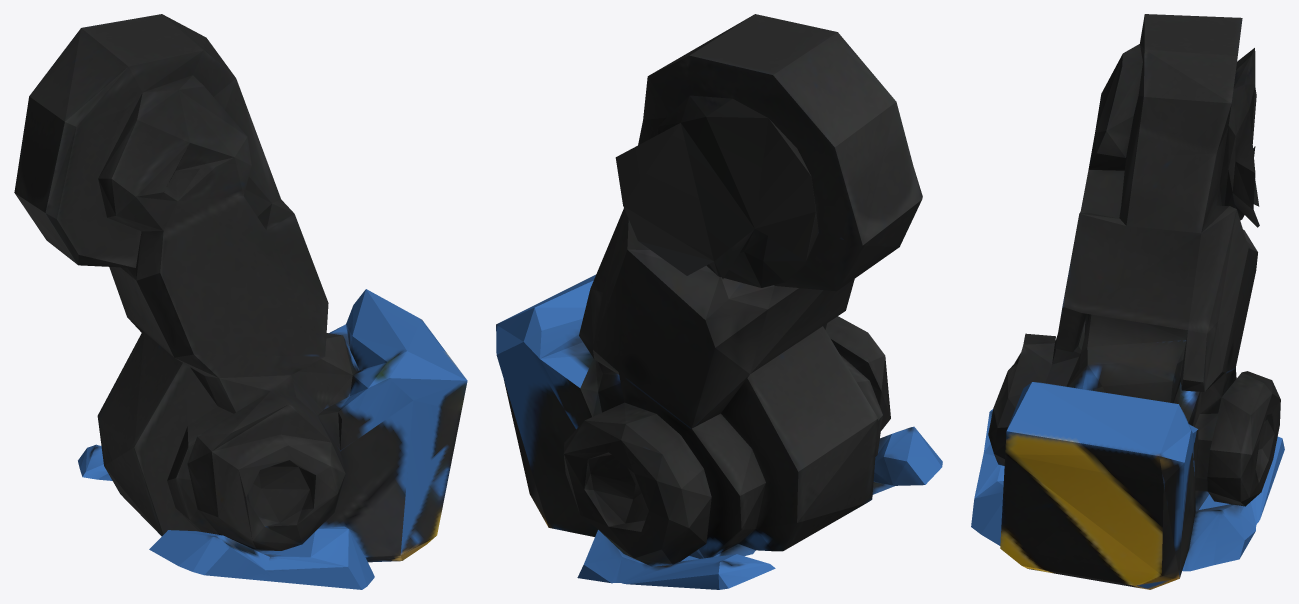
File: SM_HeavyDebris_Thigh_R.fbx
The picture shows the model from 3 angles, left to right: view 1: azimuth 30°, elevation 25°; view 2: azimuth 150°, elevation 25°; view 3: azimuth 270°, elevation 25°; orthographic projection. The views are drawn at different scales.
Parts seen in each view (by area): view 1: SM_HeavyDebris_Thigh_R; view 2: SM_HeavyDebris_Thigh_R; view 3: SM_HeavyDebris_Thigh_R.
Part boxes in pixels (x1,y1,x2,y2): SM_HeavyDebris_Thigh_R: [14, 14, 467, 589]; SM_HeavyDebris_Thigh_R: [496, 14, 942, 589]; SM_HeavyDebris_Thigh_R: [971, 14, 1284, 589].
Bounding box in the file's own units: 66.6 × 84.82 × 51.5.
1 material, 1 textured.
